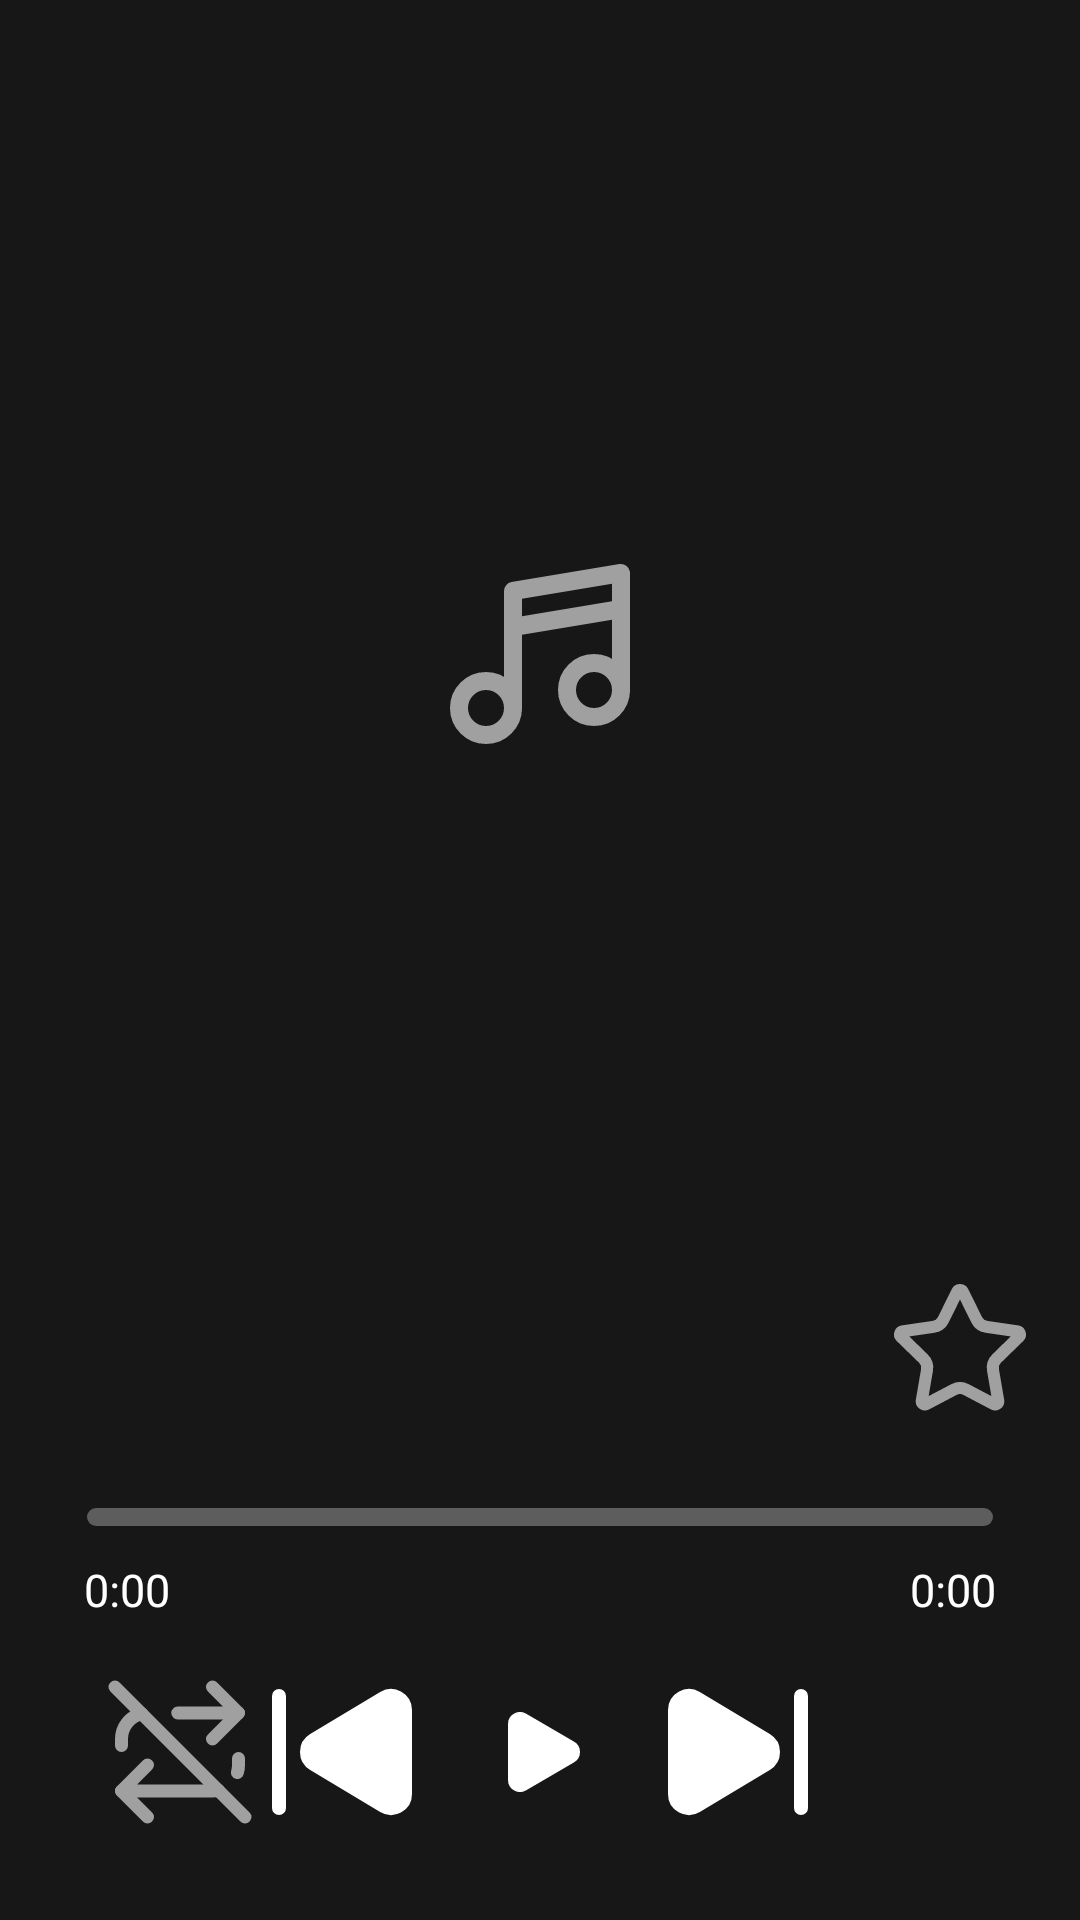

Where to tap for icons on this 1080 x 1920 app screen, as [x,y]:
Favourite: [960,1347]
Next: [738,1752]
Play: [544,1752]
Playback mode: [180,1752]
Previous: [342,1752]
track: [540,654]
